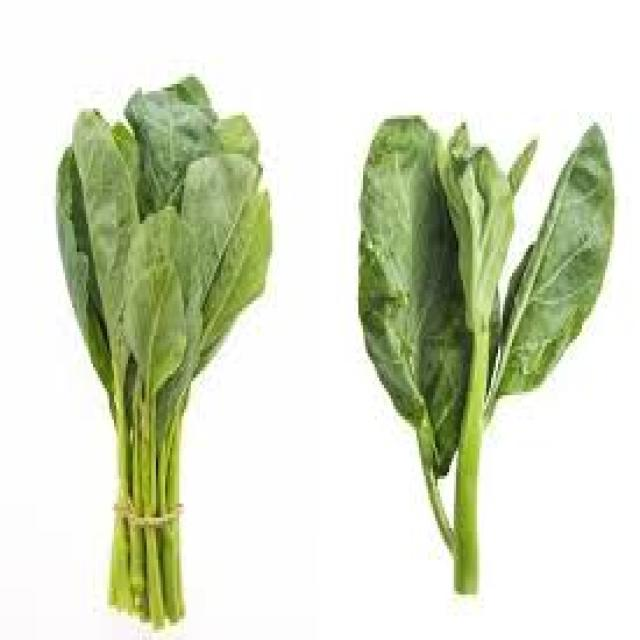collard: (59, 77, 278, 627)
